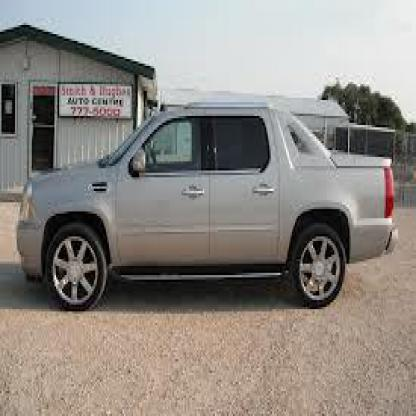Vehicle: (14, 91, 406, 323)
